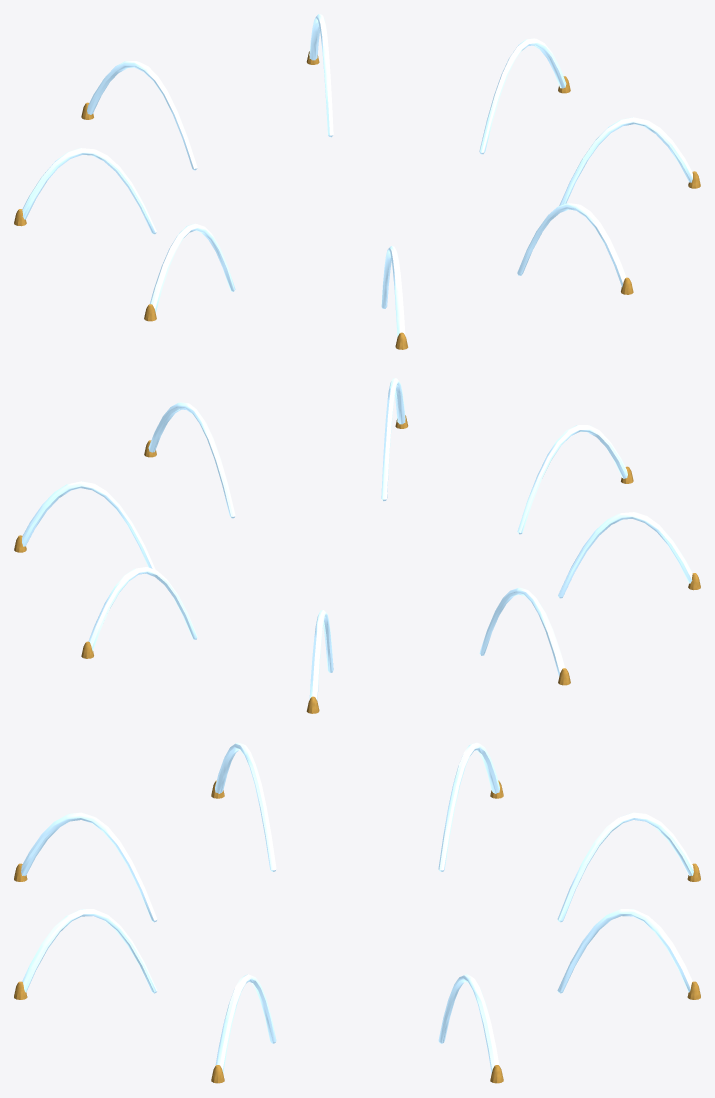
The model's file is citadel_fx_jets.glb.
The picture shows the model from 3 angles, top to bottom: view 1: azimuth 30°, elevation 25°; view 2: azimuth 150°, elevation 25°; view 3: azimuth 270°, elevation 25°; orthographic projection. The views are drawn at different scales.
Visible parts, largest first — view 1: fx_jets_water, fx_jets_gold; view 2: fx_jets_water, fx_jets_gold; view 3: fx_jets_water, fx_jets_gold.
Part boxes in pixels (box(x1,y1,x2,y2)): fx_jets_water: box(22, 14, 692, 337); fx_jets_gold: box(14, 51, 700, 349); fx_jets_water: box(22, 378, 692, 701); fx_jets_gold: box(14, 415, 700, 713); fx_jets_water: box(21, 742, 693, 1072); fx_jets_gold: box(14, 780, 700, 1083).
Bounding box in the file's own units: 5.94 × 0.9244 × 5.93.
Materials: 2 (1 with a texture image).
